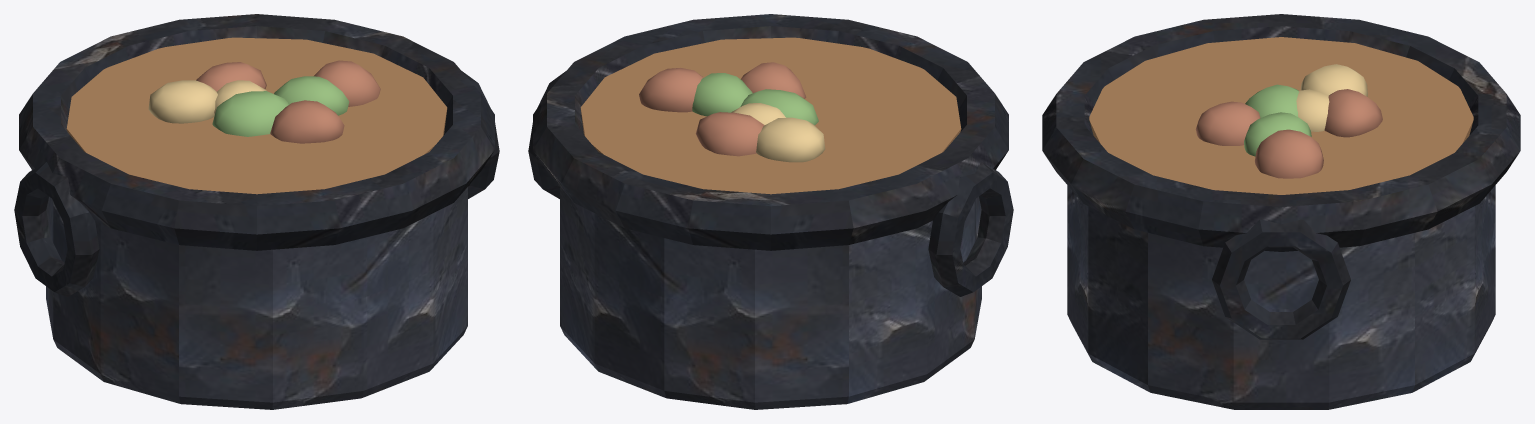
File: dish_hearth_stew.glb
3 views of the same model, side by side, from view 1: azimuth 30°, elevation 25°; view 2: azimuth 150°, elevation 25°; view 3: azimuth 270°, elevation 25° (orthographic).
Parts seen in each view (by area): view 1: model; view 2: model; view 3: model.
Boxes of the visible parts, x1,y1,x2,y2 form: model: (14,14,499,409); model: (528,14,1013,409); model: (1042,14,1520,409).
Bounding box in the file's own units: 0.2756 × 0.1464 × 0.2679.
Materials: 6 (2 with a texture image).
